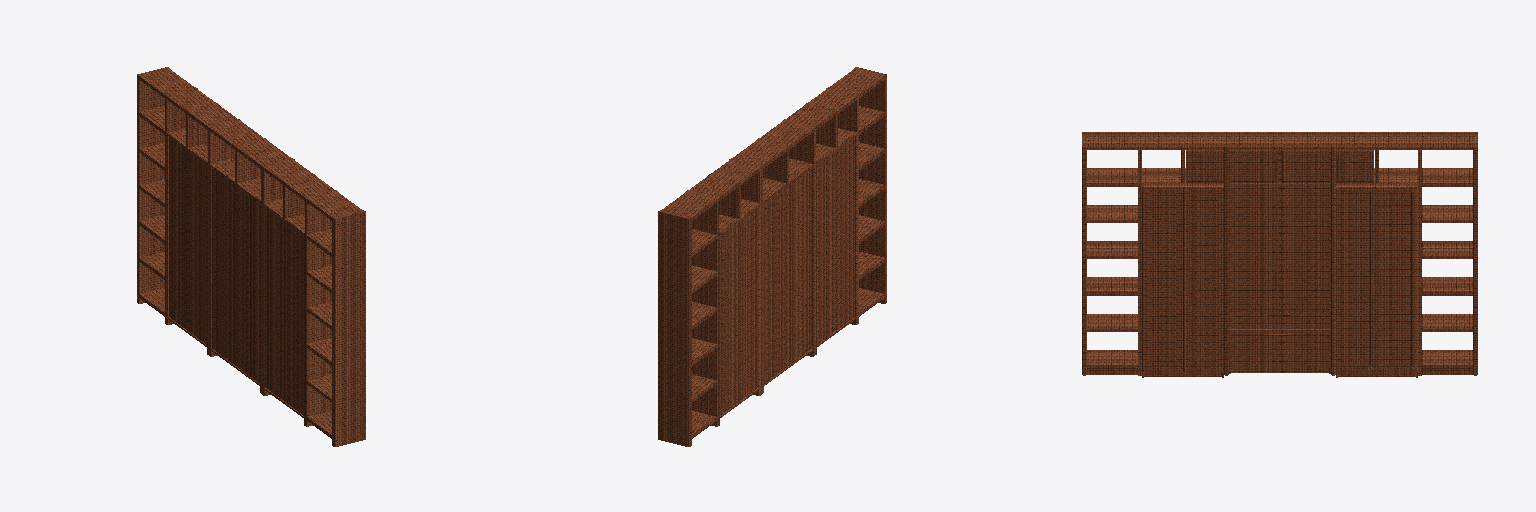
The picture shows the model from 3 angles: view 1: azimuth 30°, elevation 25°; view 2: azimuth 150°, elevation 25°; view 3: azimuth 270°, elevation 25°; orthographic projection.
Visible parts, largest first — view 1: Closet; view 2: Closet; view 3: Closet.
Part boxes in pixels (x1,y1,x2,y2): Closet: (137, 67, 365, 446); Closet: (658, 67, 886, 446); Closet: (1082, 132, 1477, 377).
Size of the model in its own units: 17.91 by 96.46 by 151.
Materials: 1 (1 with a texture image).